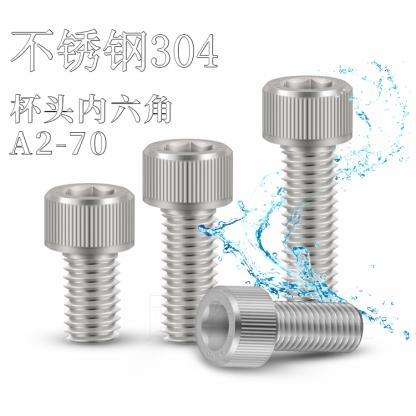FOD: (259, 75, 355, 353), (139, 136, 235, 346), (42, 180, 134, 346), (191, 284, 364, 370)
